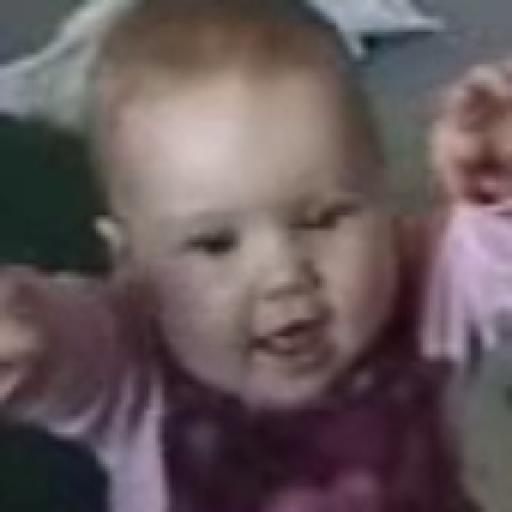Autism: (62, 22, 484, 404)
